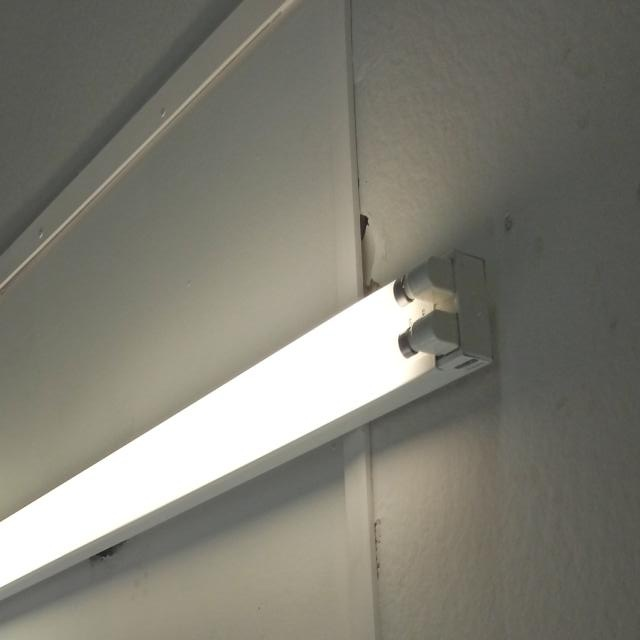fluorescent tube: (0, 209, 509, 640)
